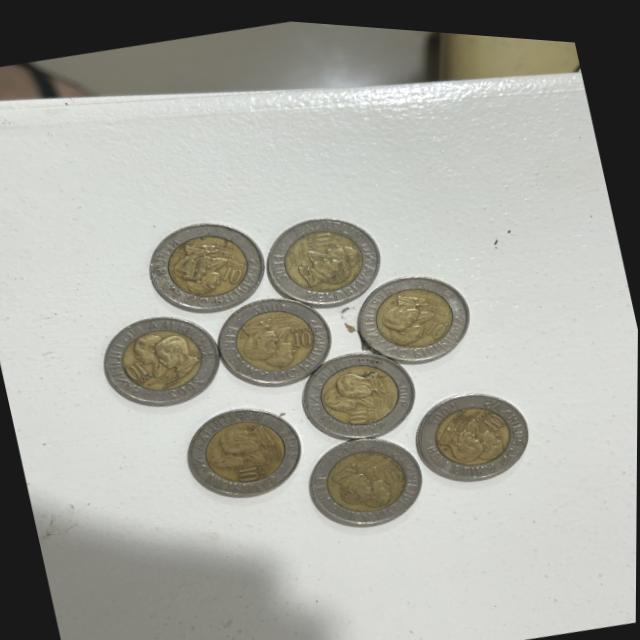10_Old_Front: (117, 337, 159, 387), (468, 393, 509, 429), (371, 449, 407, 485), (337, 394, 380, 423), (217, 253, 252, 287), (419, 301, 457, 332), (284, 314, 316, 349), (304, 218, 342, 247)
